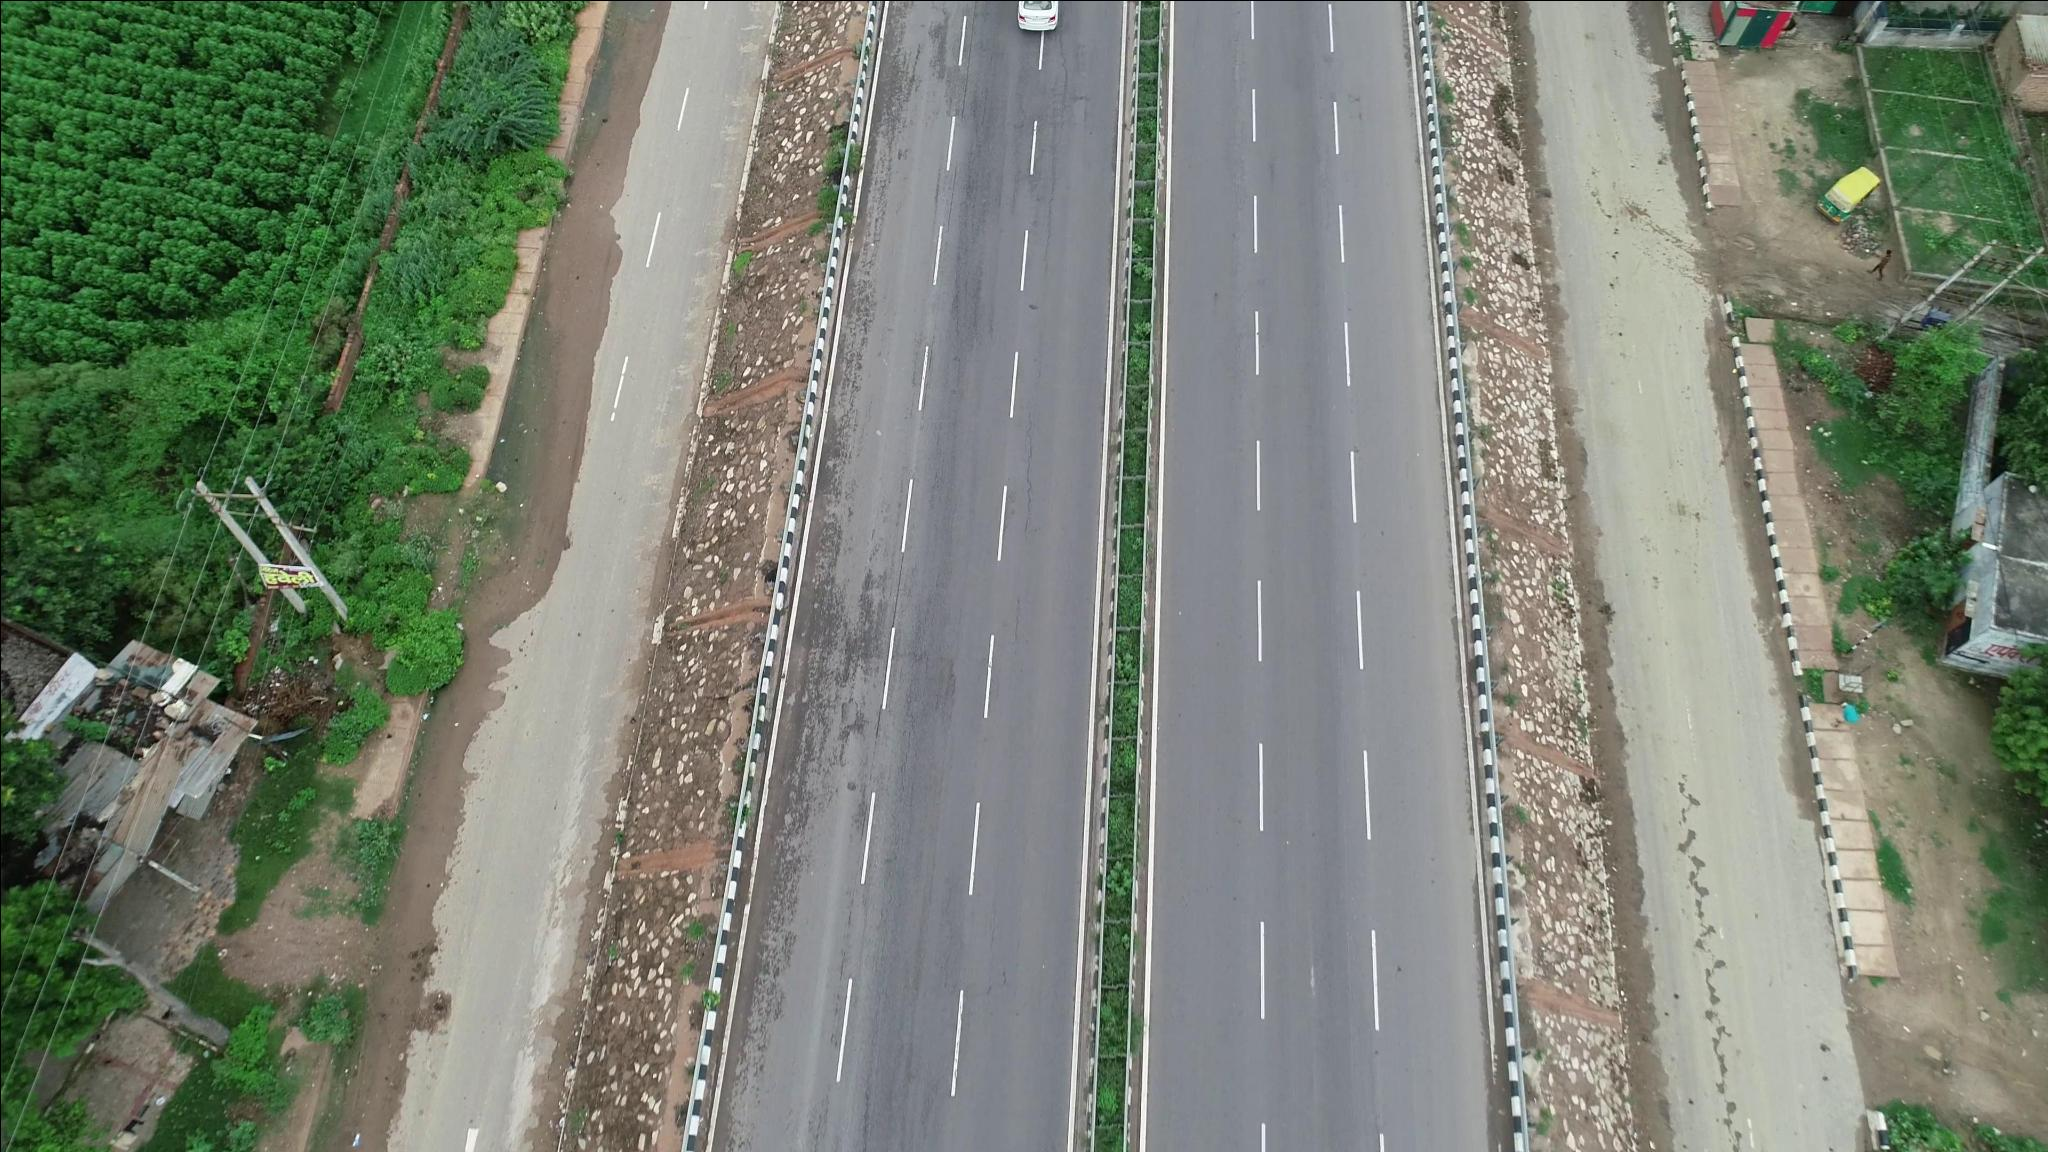Cracks: (1031, 45, 1082, 269)
